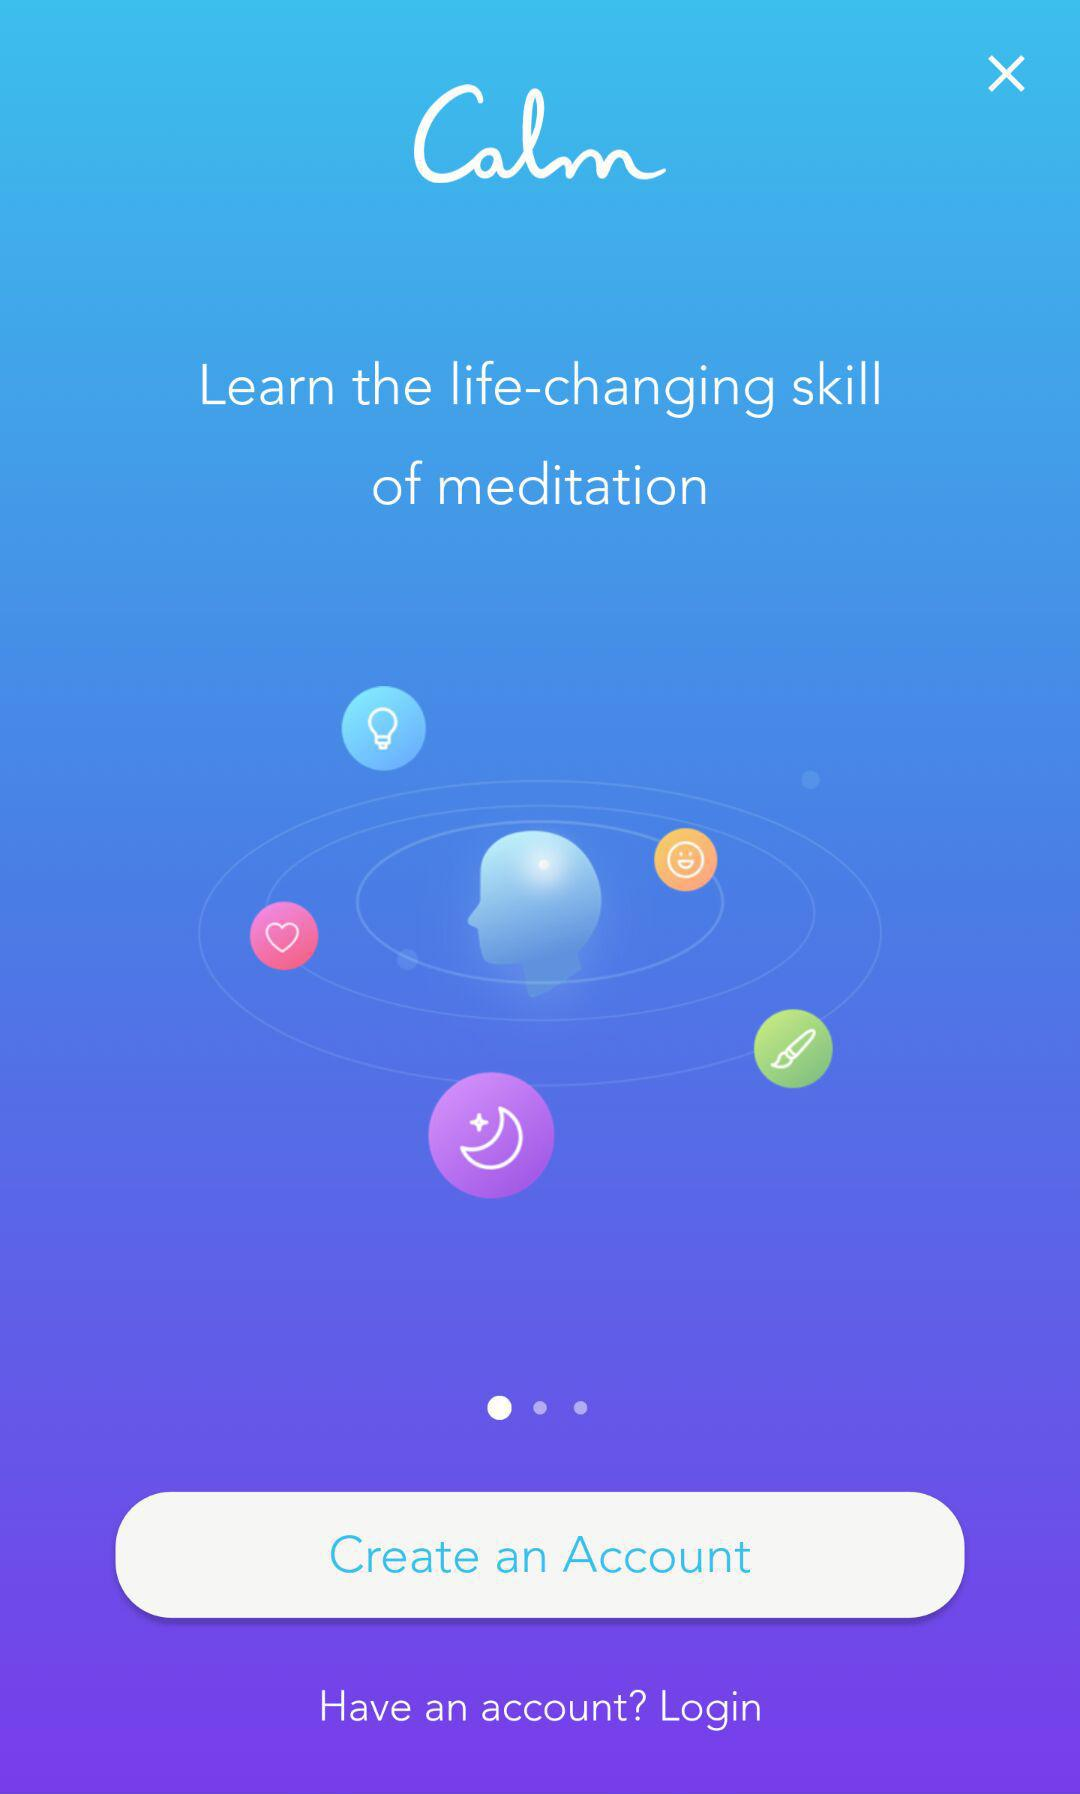Icon: (985, 55, 1027, 94)
Image: (199, 684, 884, 1199), (413, 83, 667, 186)
PageIndicator: (486, 1394, 591, 1422)
Text: (201, 359, 881, 509), (322, 1686, 764, 1732)
TextButton: (114, 1492, 966, 1620)
